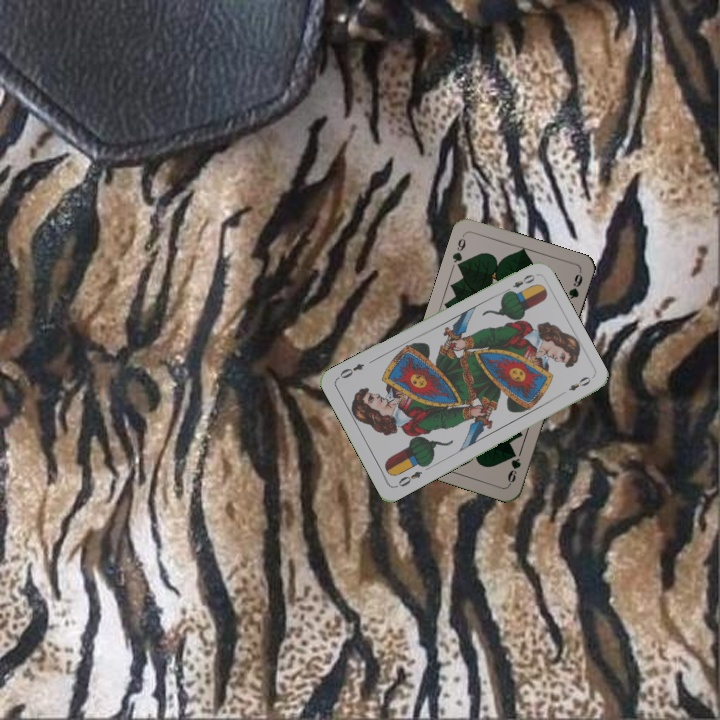EO: (500, 270, 538, 296), (392, 467, 425, 490)
G9: (448, 231, 468, 272), (504, 454, 524, 487)
